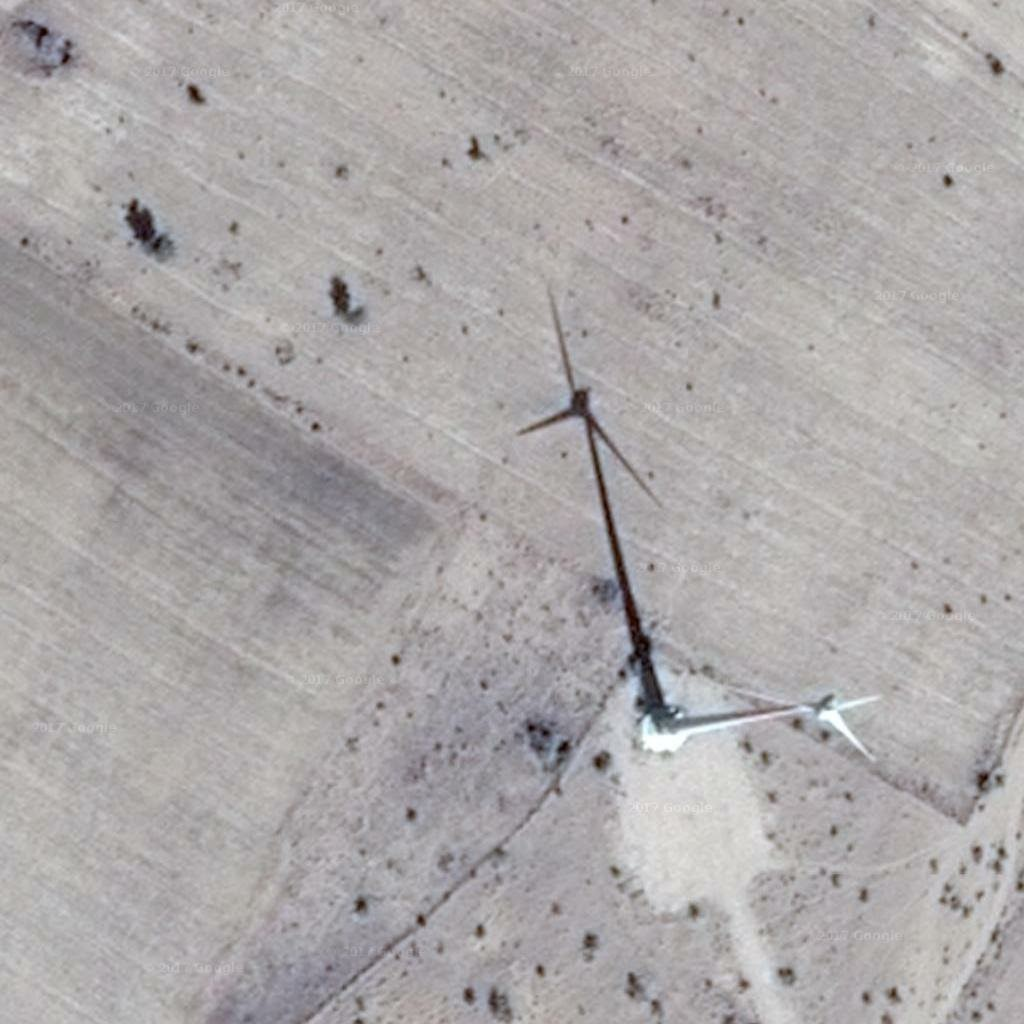Windmill: (512, 292, 669, 670)
